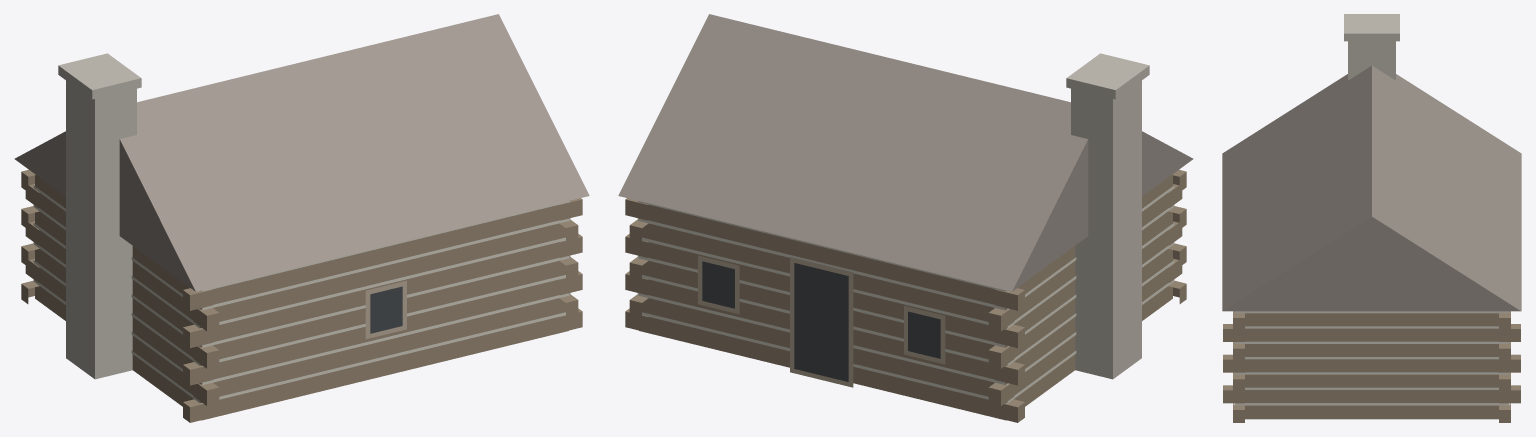
File: miller_tannery__log_1831.glb
The picture shows the model from 3 angles, left to right: view 1: azimuth 30°, elevation 25°; view 2: azimuth 150°, elevation 25°; view 3: azimuth 270°, elevation 25°; orthographic projection. The views are drawn at different scales.
Parts seen in each view (by area): view 1: miller_tannery__log_1831; view 2: miller_tannery__log_1831; view 3: miller_tannery__log_1831.
Boxes of the visible parts, x1,y1,x2,y2 form: miller_tannery__log_1831: (14, 14, 589, 422); miller_tannery__log_1831: (618, 14, 1193, 422); miller_tannery__log_1831: (1222, 14, 1521, 422).
Bounding box in the file's own units: 8.07 × 5.39 × 6.
